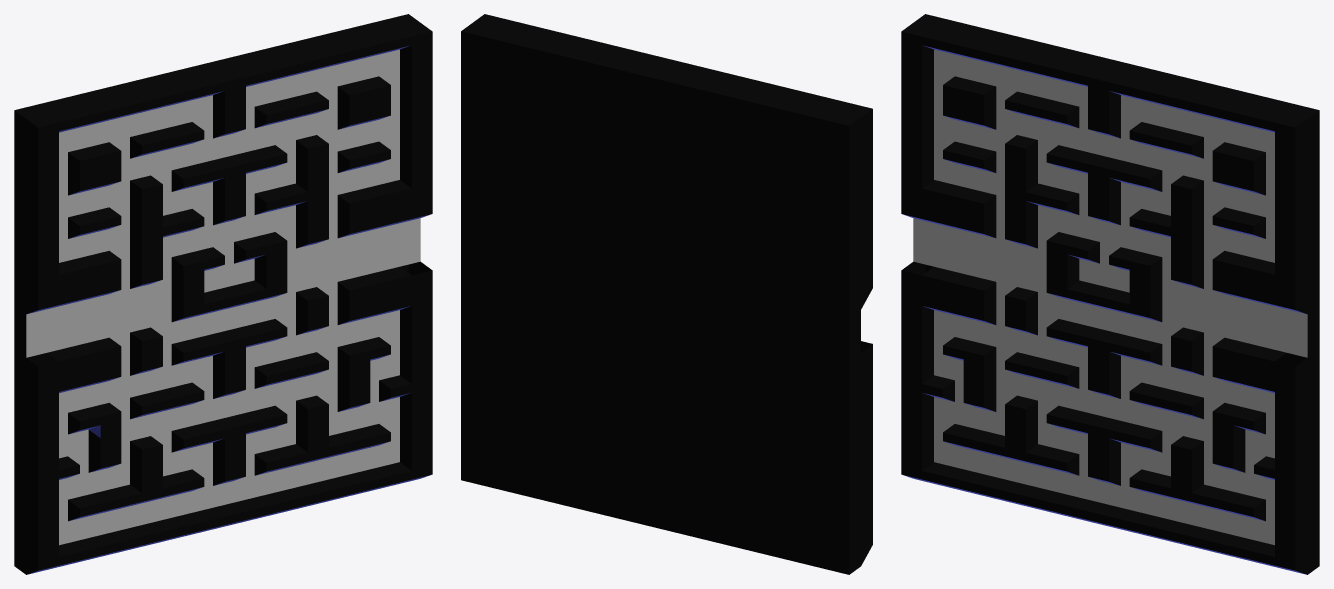
The model's file is Pac-Mini-Map.fbx.
3 renders of one model, left to right at view 1: azimuth 30°, elevation 25°; view 2: azimuth 150°, elevation 25°; view 3: azimuth 330°, elevation 25°, orthographic.
Parts seen in each view (by area): view 1: Cube; view 2: Cube; view 3: Cube.
Part boxes in pixels (x1,y1,x2,y2): Cube: (14, 14, 432, 574); Cube: (461, 14, 872, 574); Cube: (901, 14, 1319, 574).
Bounding box in the file's own units: 1900 × 2100 × 200.
